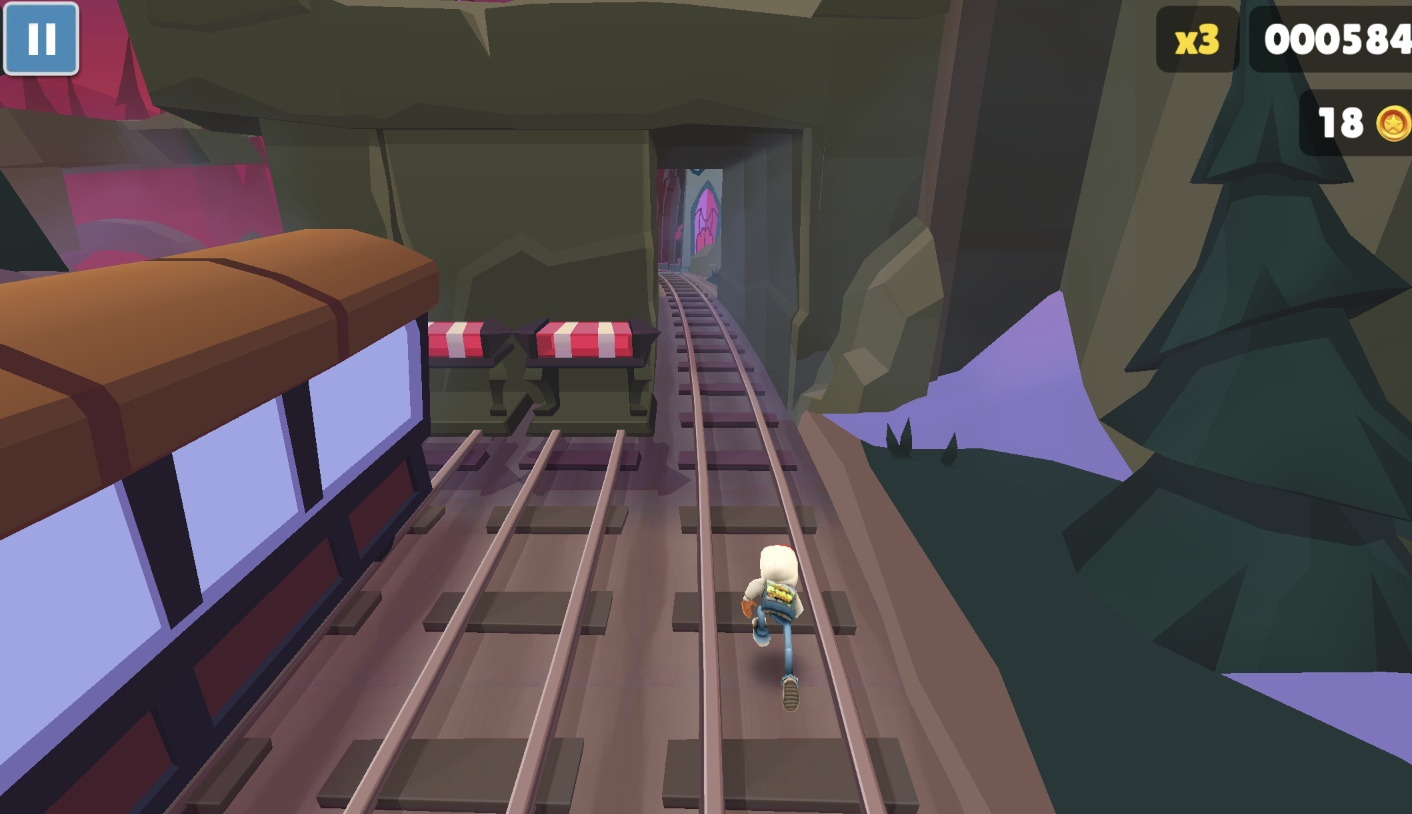ground_barrier: (522, 319, 662, 438), (427, 321, 524, 437)
train: (0, 229, 440, 814)
